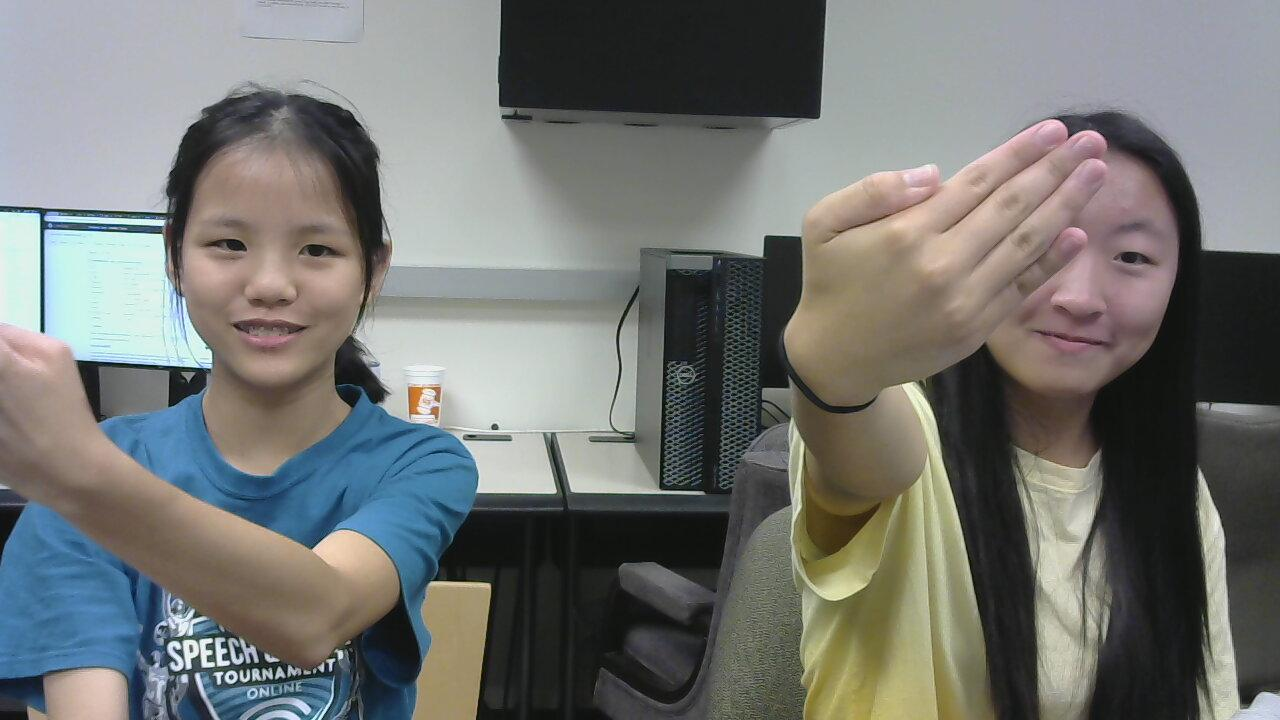hands: (776, 100, 1125, 387), (0, 303, 111, 498)
